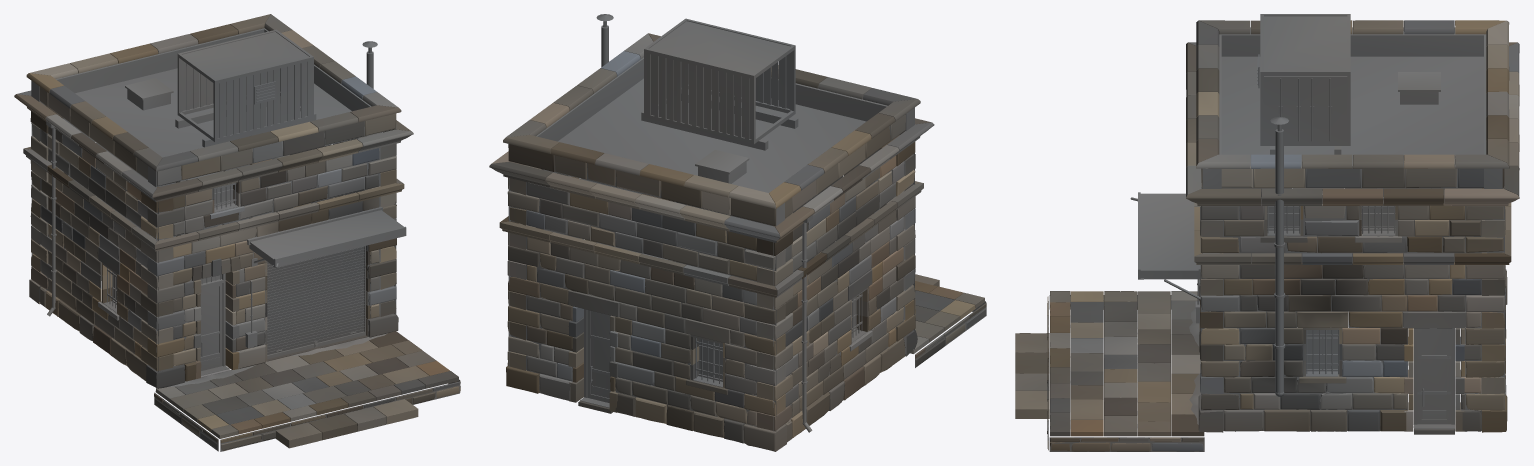
The model's file is Repairs_LOD0.glb.
3 renders of one model, left to right at view 1: azimuth 30°, elevation 25°; view 2: azimuth 150°, elevation 25°; view 3: azimuth 270°, elevation 25°, orthographic. The views are drawn at different scales.
Parts seen in each view (by area): view 1: Repairs_Masonry_LOD0, Repairs_Metal_LOD0, Repairs_Trim_LOD0, Repairs_Porch_LOD0, Repairs_Roof_LOD0, Repairs_Glass_LOD0, Repairs_Sand_LOD0; view 2: Repairs_Masonry_LOD0, Repairs_Trim_LOD0, Repairs_Metal_LOD0, Repairs_Roof_LOD0, Repairs_Porch_LOD0, Repairs_Glass_LOD0; view 3: Repairs_Masonry_LOD0, Repairs_Trim_LOD0, Repairs_Porch_LOD0, Repairs_Metal_LOD0, Repairs_Roof_LOD0, Repairs_Glass_LOD0, Repairs_Sand_LOD0.
Part boxes in pixels (<box>): Repairs_Masonry_LOD0: <box>29,28,398,388</box>; Repairs_Metal_LOD0: <box>46,29,406,375</box>; Repairs_Trim_LOD0: <box>14,14,413,378</box>; Repairs_Porch_LOD0: <box>154,331,460,451</box>; Repairs_Roof_LOD0: <box>75,66,351,157</box>; Repairs_Glass_LOD0: <box>105,83,356,356</box>; Repairs_Sand_LOD0: <box>103,203,387,387</box>; Repairs_Masonry_LOD0: <box>506,57,917,451</box>; Repairs_Trim_LOD0: <box>489,33,934,412</box>; Repairs_Metal_LOD0: <box>580,14,862,432</box>; Repairs_Roof_LOD0: <box>558,78,866,192</box>; Repairs_Porch_LOD0: <box>578,274,986,413</box>; Repairs_Glass_LOD0: <box>598,234,855,379</box>; Repairs_Masonry_LOD0: <box>1198,27,1507,432</box>; Repairs_Trim_LOD0: <box>1186,20,1519,431</box>; Repairs_Porch_LOD0: <box>1015,291,1454,451</box>; Repairs_Metal_LOD0: <box>1130,14,1487,428</box>; Repairs_Roof_LOD0: <box>1221,56,1483,158</box>; Repairs_Glass_LOD0: <box>1258,57,1395,368</box>; Repairs_Sand_LOD0: <box>1189,230,1395,424</box>.
Bounding box in the file's own units: 8.53 × 8.86 × 11.73.
